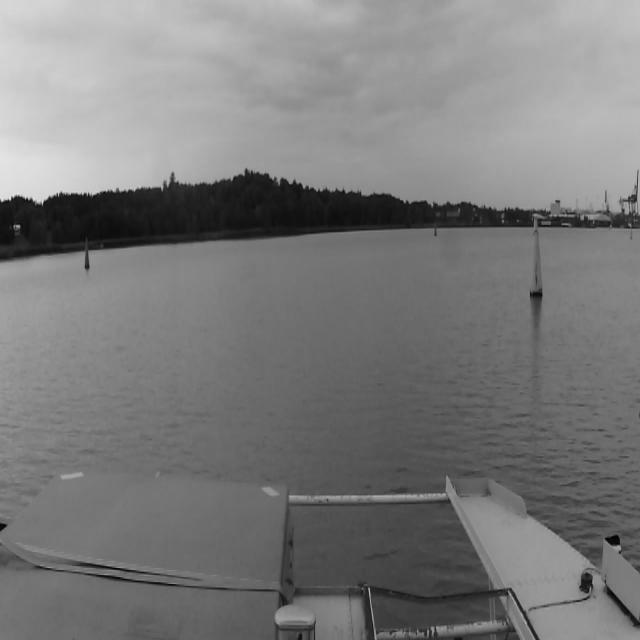buoy: (531, 220, 543, 296), (84, 238, 90, 268), (434, 223, 436, 236)
